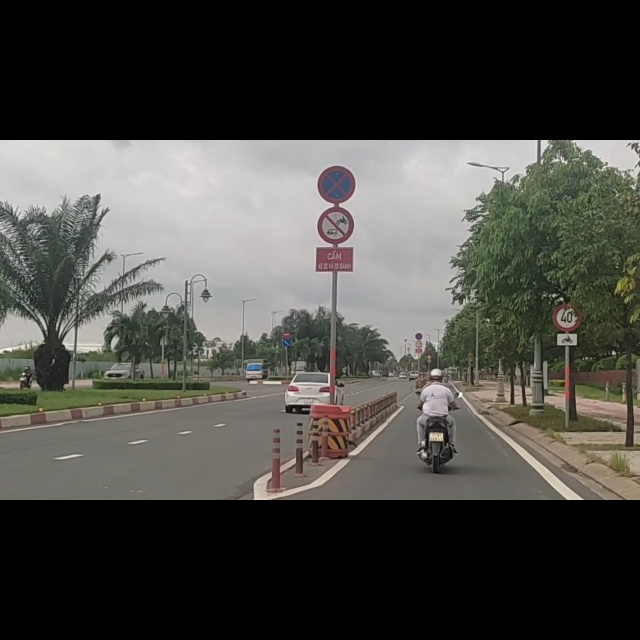bien_cam: (314, 37, 357, 114), (314, 116, 355, 186), (553, 288, 582, 341), (555, 338, 579, 366)
